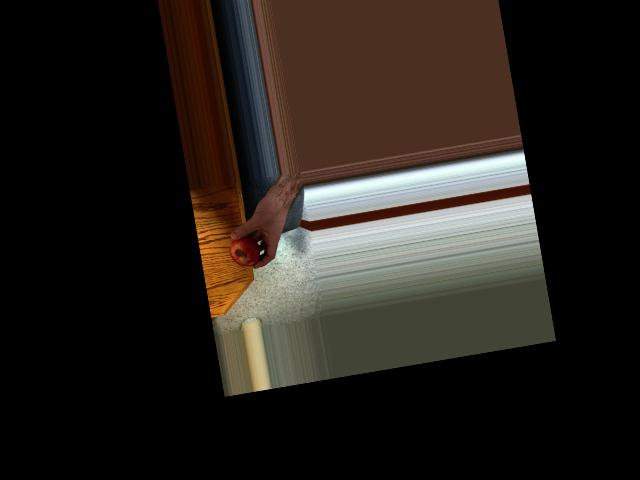apple: (227, 230, 265, 269)
